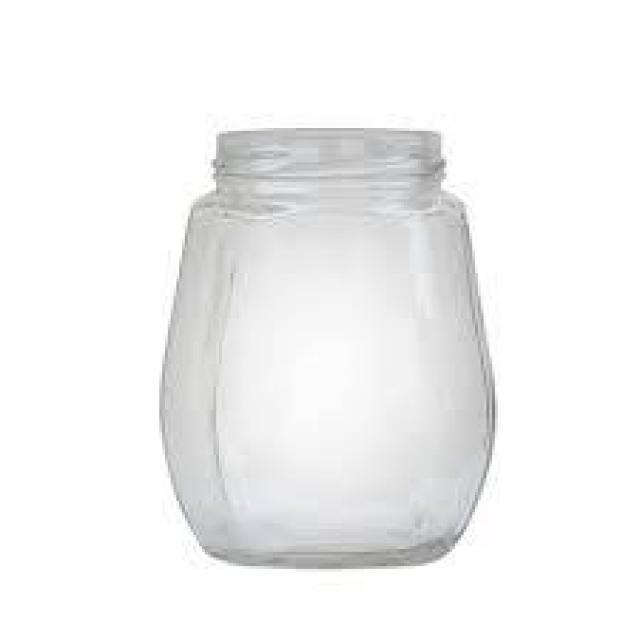glass: (157, 121, 500, 574)
